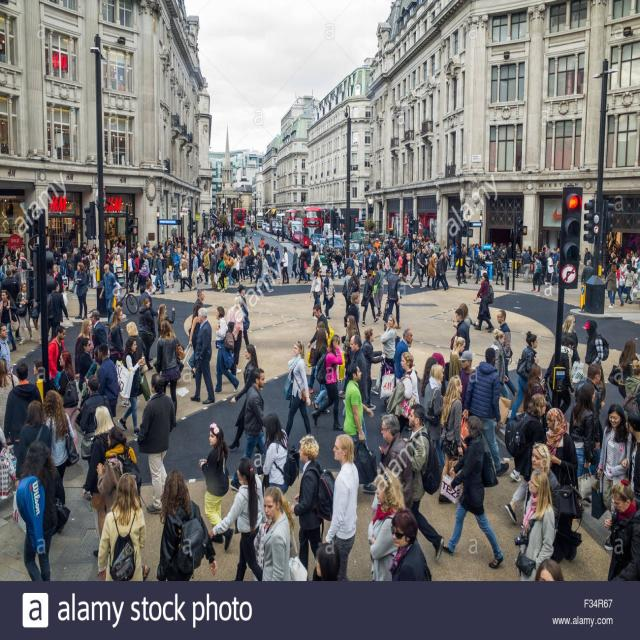body: (0, 203, 640, 264), (438, 414, 506, 571), (96, 424, 152, 582), (208, 454, 270, 582), (154, 468, 218, 582), (289, 432, 336, 582), (19, 438, 67, 582), (402, 402, 444, 565), (460, 346, 510, 478), (136, 370, 178, 516), (503, 392, 548, 524), (96, 470, 148, 582), (596, 400, 634, 553), (545, 407, 582, 564), (339, 360, 381, 493), (323, 432, 360, 582), (80, 404, 116, 558), (229, 367, 270, 492), (514, 467, 557, 582), (366, 465, 408, 582), (199, 422, 235, 552), (2, 360, 46, 462), (602, 474, 640, 580), (522, 442, 563, 536), (279, 338, 314, 444), (378, 412, 415, 512), (154, 318, 187, 430), (13, 398, 53, 490), (227, 343, 259, 452), (437, 372, 463, 506), (43, 390, 80, 483), (78, 372, 114, 467), (261, 411, 300, 498), (261, 486, 296, 581), (388, 507, 432, 582), (311, 334, 344, 432), (116, 335, 147, 439), (574, 364, 602, 479), (422, 363, 447, 480), (508, 330, 540, 421), (210, 304, 241, 396), (344, 332, 368, 448), (568, 381, 596, 479), (189, 305, 216, 405), (543, 336, 576, 416), (55, 348, 79, 456), (391, 350, 421, 436), (120, 320, 149, 408), (357, 327, 387, 412), (304, 302, 330, 394), (369, 314, 398, 396), (608, 338, 640, 401), (496, 310, 518, 398), (338, 315, 361, 398), (96, 342, 120, 419), (138, 279, 160, 362), (0, 410, 18, 503), (621, 410, 639, 501), (135, 294, 156, 372), (490, 327, 511, 401), (47, 324, 68, 397), (522, 363, 553, 412), (0, 357, 20, 432), (472, 270, 495, 334), (74, 317, 96, 380), (226, 294, 243, 374), (187, 300, 204, 379), (458, 350, 476, 424), (592, 358, 606, 452), (392, 328, 414, 387), (582, 319, 610, 365), (0, 289, 20, 353), (15, 281, 34, 346), (98, 263, 117, 328), (384, 264, 402, 332), (561, 313, 582, 371), (308, 542, 340, 580), (51, 280, 70, 340), (361, 268, 380, 327), (622, 358, 640, 420), (107, 306, 125, 366), (76, 336, 94, 394), (450, 307, 470, 358), (452, 301, 472, 352), (28, 281, 43, 346), (308, 264, 325, 319), (236, 284, 251, 345), (396, 331, 415, 379), (74, 261, 89, 321), (532, 556, 565, 582), (430, 351, 447, 400), (448, 335, 466, 381), (88, 308, 108, 349), (408, 247, 426, 291), (420, 357, 439, 398), (322, 266, 336, 320), (85, 344, 102, 387), (8, 264, 21, 320), (67, 247, 82, 294), (52, 264, 68, 308), (157, 302, 176, 339), (0, 267, 20, 302), (372, 260, 384, 317), (431, 252, 448, 292), (343, 291, 361, 328), (258, 253, 274, 294), (604, 263, 618, 309), (341, 266, 354, 315), (253, 250, 268, 292), (176, 254, 192, 293), (151, 252, 165, 296), (0, 323, 12, 374), (456, 246, 472, 284), (436, 250, 451, 290), (424, 250, 439, 289), (345, 272, 361, 307), (472, 276, 483, 326), (136, 262, 152, 296), (530, 252, 543, 293), (623, 264, 636, 304), (164, 247, 176, 290), (615, 262, 626, 306), (224, 250, 237, 286), (521, 248, 534, 284), (108, 299, 125, 326), (151, 250, 162, 291), (208, 250, 219, 291), (295, 247, 307, 284), (474, 250, 487, 284), (192, 288, 206, 318), (17, 251, 29, 286), (193, 246, 204, 283), (280, 245, 290, 285), (92, 346, 104, 379), (312, 250, 324, 283), (546, 250, 556, 289), (580, 259, 594, 286), (499, 245, 509, 282), (190, 250, 199, 291), (217, 252, 226, 293), (324, 246, 335, 278), (201, 246, 210, 285), (290, 245, 300, 280), (171, 246, 180, 284), (183, 250, 192, 288), (89, 253, 98, 290), (332, 247, 342, 280), (495, 253, 505, 286), (128, 252, 136, 293), (132, 250, 141, 286), (62, 252, 70, 292), (305, 243, 313, 282), (551, 247, 559, 286), (382, 252, 392, 283), (141, 254, 152, 282), (450, 243, 461, 271), (338, 248, 347, 281), (248, 248, 256, 284), (540, 249, 548, 285), (110, 252, 119, 283), (269, 246, 277, 280), (280, 249, 288, 283), (238, 249, 246, 282), (360, 248, 368, 281), (420, 247, 427, 283), (242, 241, 250, 272), (84, 256, 91, 291), (80, 241, 89, 268), (140, 242, 150, 266), (232, 252, 240, 282), (514, 244, 521, 278), (401, 249, 408, 282), (468, 244, 475, 277), (346, 251, 356, 274), (270, 246, 277, 278), (634, 254, 640, 291), (0, 256, 10, 278), (630, 250, 639, 274), (532, 247, 540, 274), (32, 358, 43, 376), (365, 248, 371, 280), (619, 257, 629, 276), (352, 254, 360, 276), (188, 241, 195, 266), (388, 247, 393, 280), (53, 246, 61, 266), (107, 254, 115, 274), (493, 250, 499, 276), (15, 246, 22, 268), (397, 252, 405, 271), (584, 247, 592, 266), (274, 244, 281, 264), (20, 243, 28, 260), (210, 246, 218, 263), (447, 243, 452, 270), (117, 241, 125, 257), (372, 246, 379, 264), (506, 241, 513, 259), (9, 248, 17, 262), (122, 240, 127, 262), (316, 320, 325, 332), (136, 242, 142, 260), (263, 240, 270, 255), (248, 235, 255, 249), (484, 248, 491, 262), (110, 243, 118, 255), (275, 226, 281, 242), (260, 235, 265, 254), (118, 244, 124, 258), (257, 244, 264, 256), (527, 245, 533, 258), (91, 243, 98, 254), (130, 245, 135, 259), (159, 248, 164, 260), (246, 241, 252, 251), (8, 256, 15, 264), (107, 248, 111, 258), (556, 250, 560, 258)
